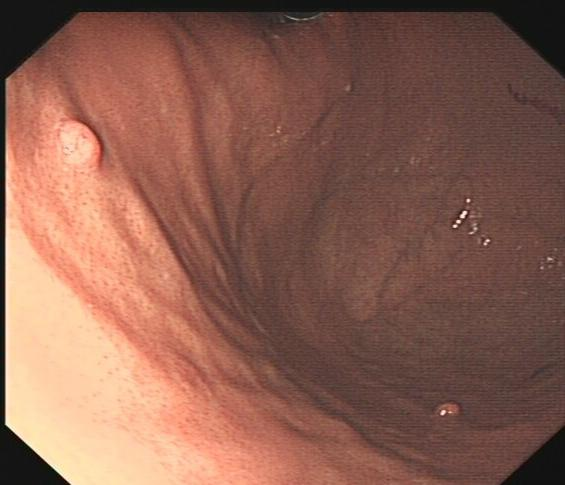Polyp: (49, 119, 102, 181)
